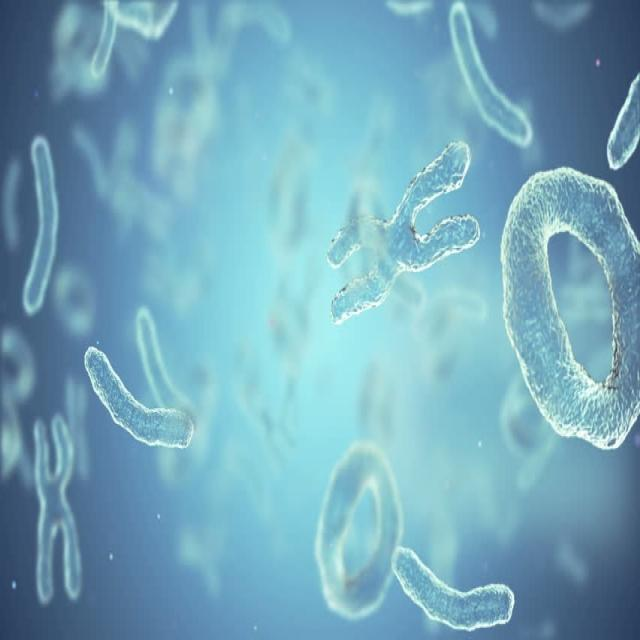Amoeba: (499, 167, 638, 453), (326, 140, 480, 328)
